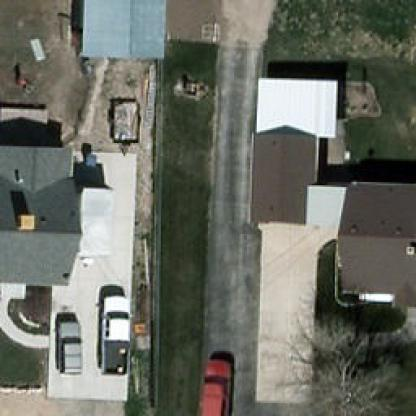car: (51, 318, 78, 374)
pickup: (98, 296, 130, 376)
